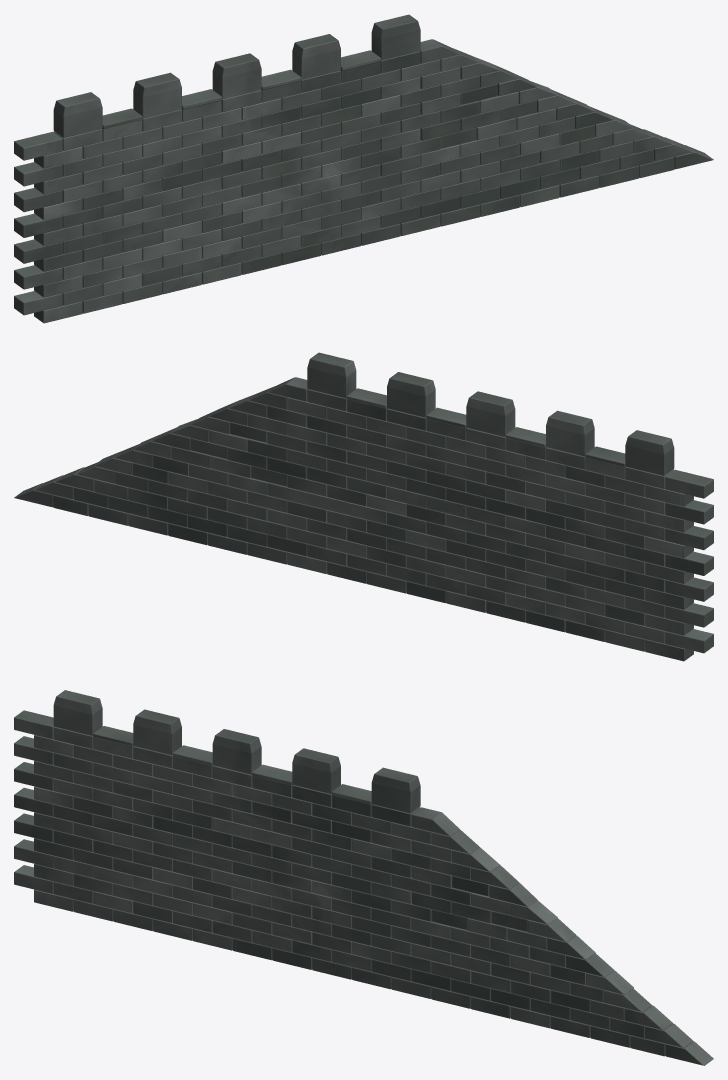
Rendered from Medieval Final Wall.fbx.
3 renders of one model, top to bottom at view 1: azimuth 30°, elevation 25°; view 2: azimuth 150°, elevation 25°; view 3: azimuth 330°, elevation 25°, orthographic.
Visible parts, largest first — view 1: Medieval end wall-4; view 2: Medieval end wall-4; view 3: Medieval end wall-4.
Boxes of the visible parts, x1=… form: Medieval end wall-4: x1=14, y1=14, x2=713, y2=323; Medieval end wall-4: x1=14, y1=352, x2=713, y2=661; Medieval end wall-4: x1=14, y1=690, x2=713, y2=1065.
Size of the model in its own units: 1621 by 474 by 44.55.
1 material, 1 textured.
